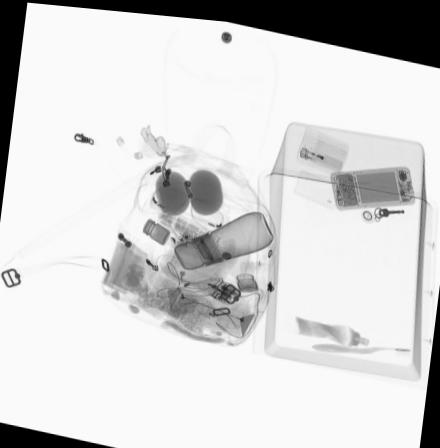Lighter: (297, 138, 343, 166)
